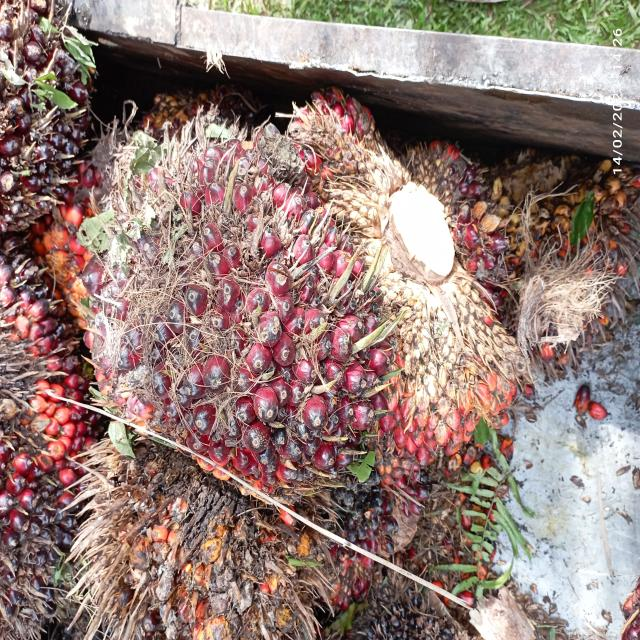fraksi 1: (63, 49, 392, 530)
